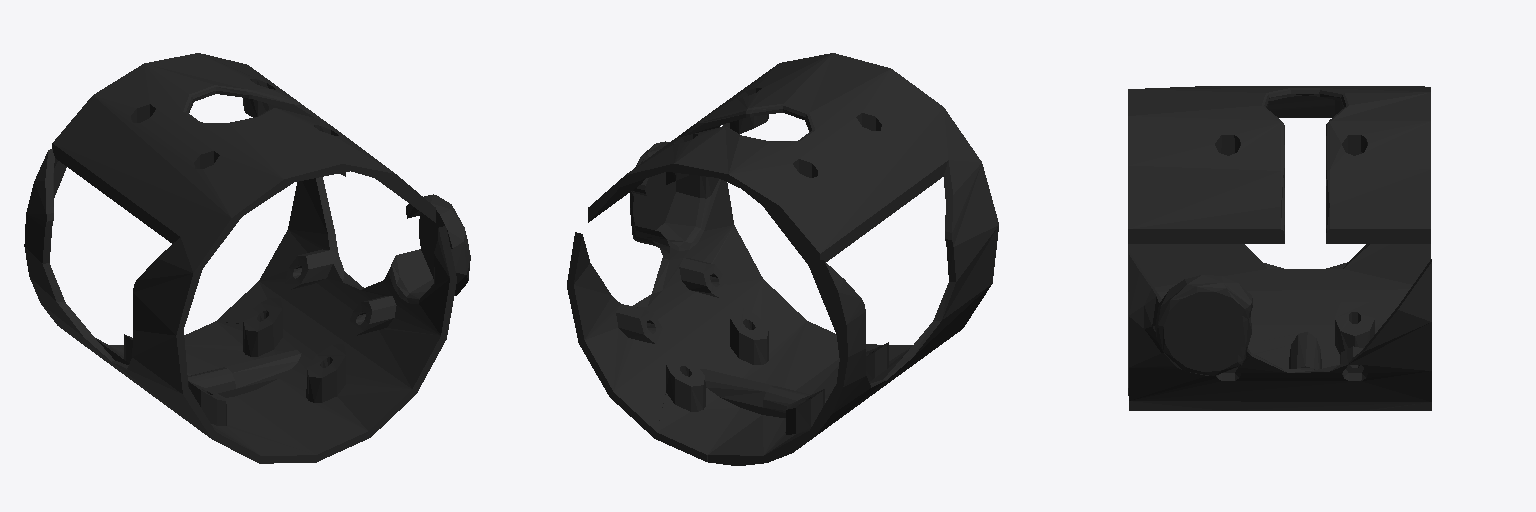
Rendered from asm0001_vrml_16_prt.obj.
3 renders of one model, left to right at view 1: azimuth 30°, elevation 25°; view 2: azimuth 150°, elevation 25°; view 3: azimuth 270°, elevation 25°, orthographic.
Visible parts, largest first — view 1: ShapeIndexedFaceSet.001_ShapeIndexedFaceSet, ShapeIndexedFaceSet_ShapeIndexedFaceSet.046; view 2: ShapeIndexedFaceSet.001_ShapeIndexedFaceSet, ShapeIndexedFaceSet_ShapeIndexedFaceSet.046; view 3: ShapeIndexedFaceSet.001_ShapeIndexedFaceSet, ShapeIndexedFaceSet_ShapeIndexedFaceSet.046.
Part boxes in pixels (left/top/right/bottom): ShapeIndexedFaceSet.001_ShapeIndexedFaceSet: left=24, top=53, right=435, bottom=463; ShapeIndexedFaceSet_ShapeIndexedFaceSet.046: left=184, top=177, right=470, bottom=461; ShapeIndexedFaceSet.001_ShapeIndexedFaceSet: left=588, top=53, right=998, bottom=465; ShapeIndexedFaceSet_ShapeIndexedFaceSet.046: left=567, top=123, right=838, bottom=461; ShapeIndexedFaceSet.001_ShapeIndexedFaceSet: left=1128, top=86, right=1430, bottom=395; ShapeIndexedFaceSet_ShapeIndexedFaceSet.046: left=1129, top=252, right=1431, bottom=410.
Size of the model in its own units: 2.25 by 2.03 by 1.89.